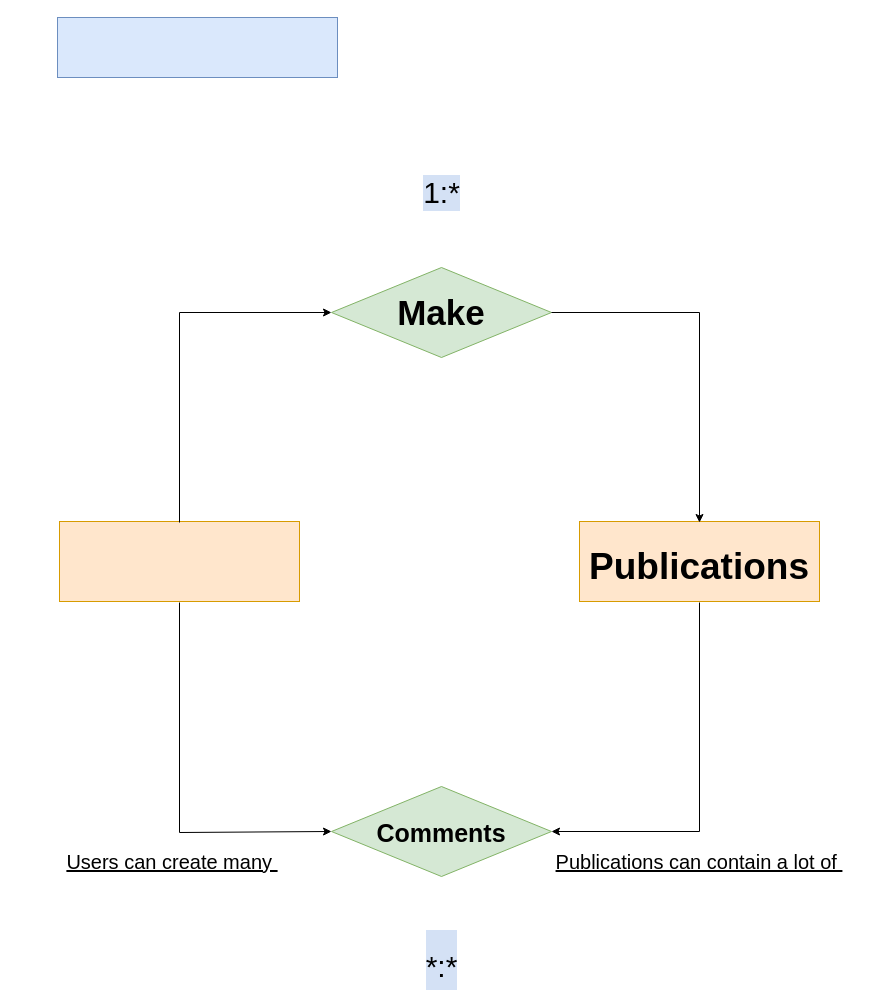
Some shapes in this 881 by 1007 pixel diagram are drawn without their labels. The shapes that lost their labels are listed below. From the top down, each one's centre as x and y in pixels, then its label:
At (x=197, y=47): "BLOG".
At (x=179, y=561): "Users".
